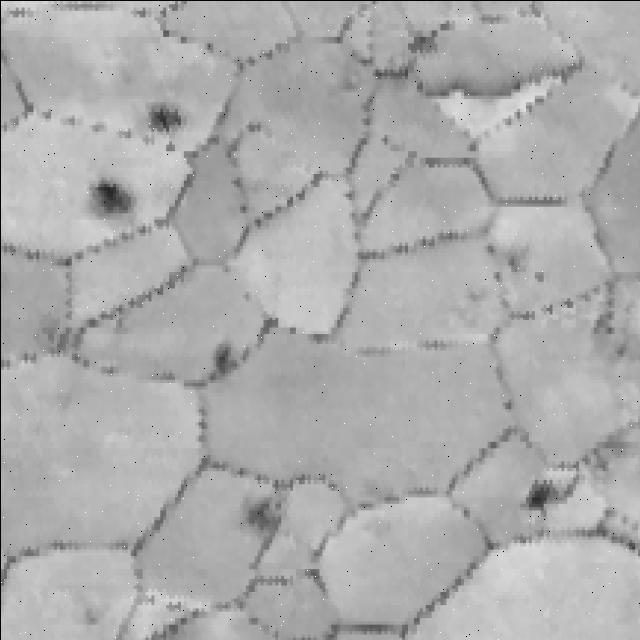good_void: (130, 90, 190, 145), (513, 465, 570, 512), (238, 498, 281, 540), (91, 173, 129, 219), (202, 344, 233, 379), (76, 598, 102, 632), (406, 33, 439, 58), (506, 252, 523, 272), (486, 239, 502, 260), (488, 270, 506, 286), (531, 268, 547, 285)
